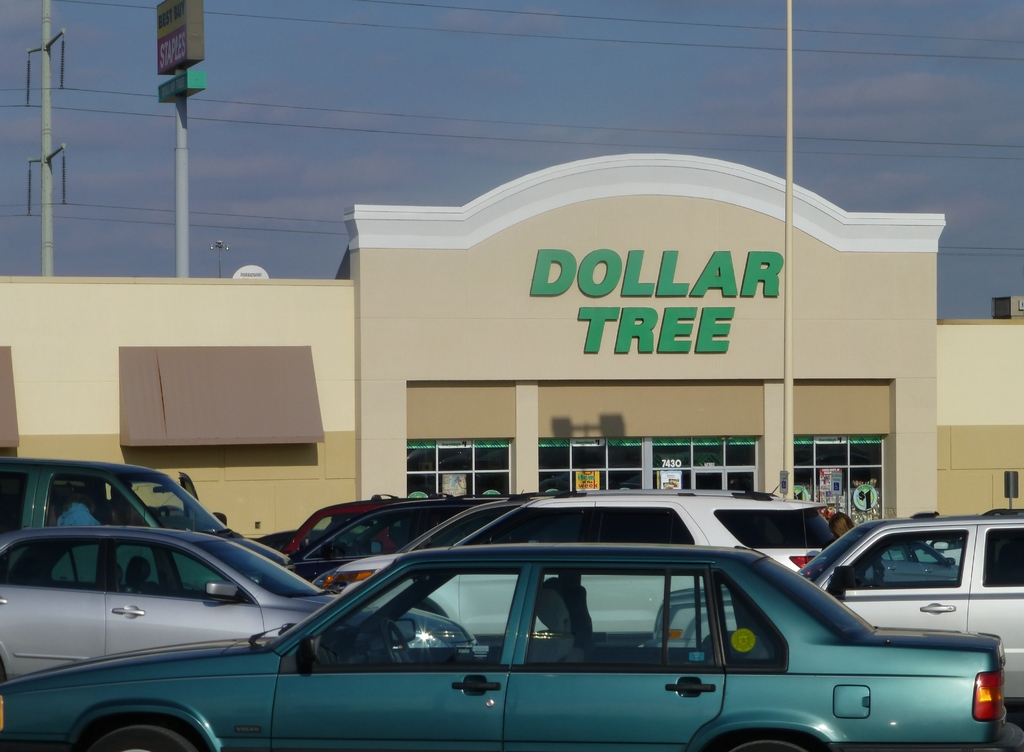Car: (0, 451, 1023, 751)
